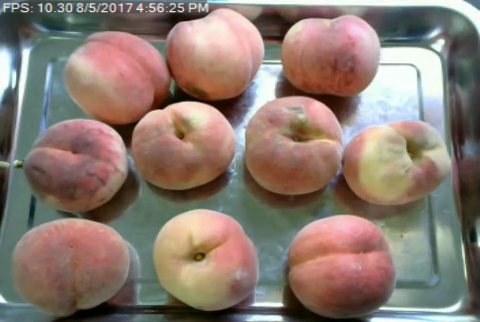Peach: (12, 216, 130, 315), (287, 214, 394, 319), (153, 209, 257, 310), (62, 29, 170, 124), (244, 95, 342, 194), (26, 119, 129, 212), (166, 6, 265, 102), (130, 99, 234, 190), (343, 120, 450, 205), (280, 14, 380, 98)
